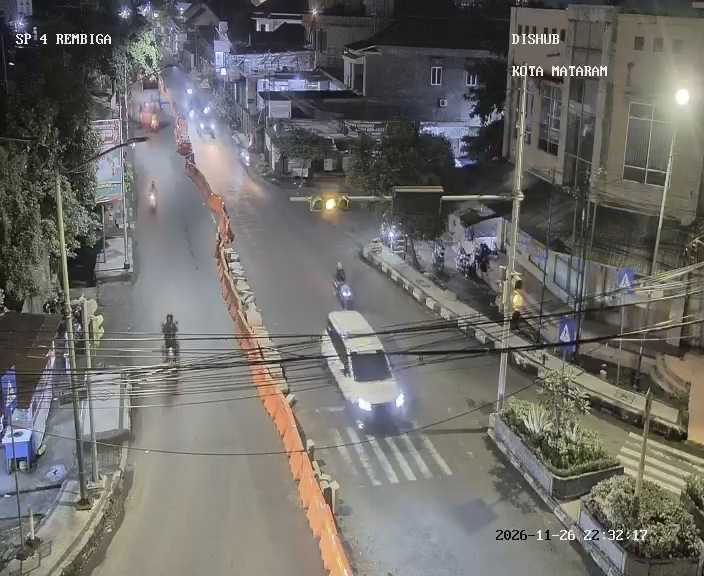Gerobak: (0, 370, 53, 475)
